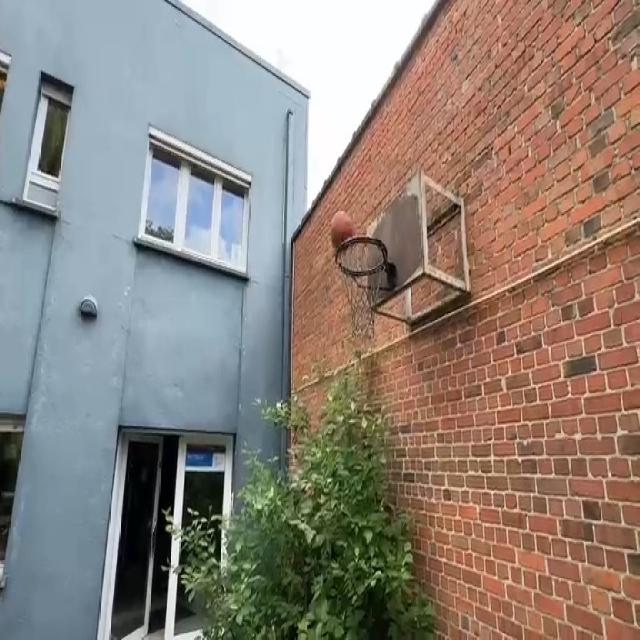rebound_hit: (331, 211, 353, 251)
